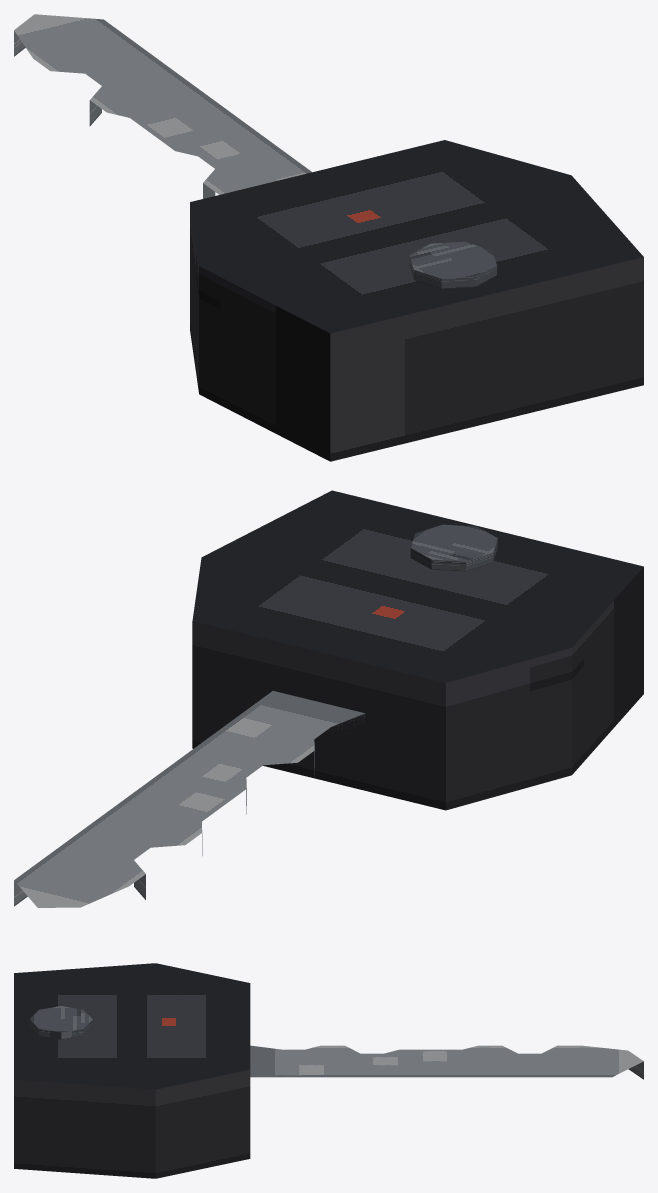
File: INV_CarKey.glb
The picture shows the model from 3 angles, top to bottom: view 1: azimuth 30°, elevation 25°; view 2: azimuth 150°, elevation 25°; view 3: azimuth 270°, elevation 25°; orthographic projection. The views are drawn at different scales.
Parts seen in each view (by area): view 1: INV_CarKey_Mesh; view 2: INV_CarKey_Mesh; view 3: INV_CarKey_Mesh.
Boxes of the visible parts, x1,y1,x2,y2 form: INV_CarKey_Mesh: [14, 14, 643, 461]; INV_CarKey_Mesh: [14, 490, 643, 907]; INV_CarKey_Mesh: [14, 963, 643, 1178].
Size of what is drawn, in the model's own units: 0.038 by 0.0135 by 0.08.
1 material, 1 textured.
